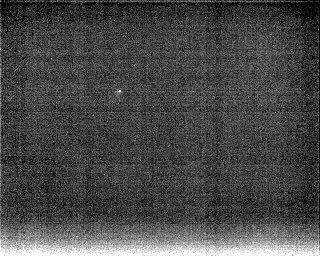BIRD: (115, 87, 124, 97)
